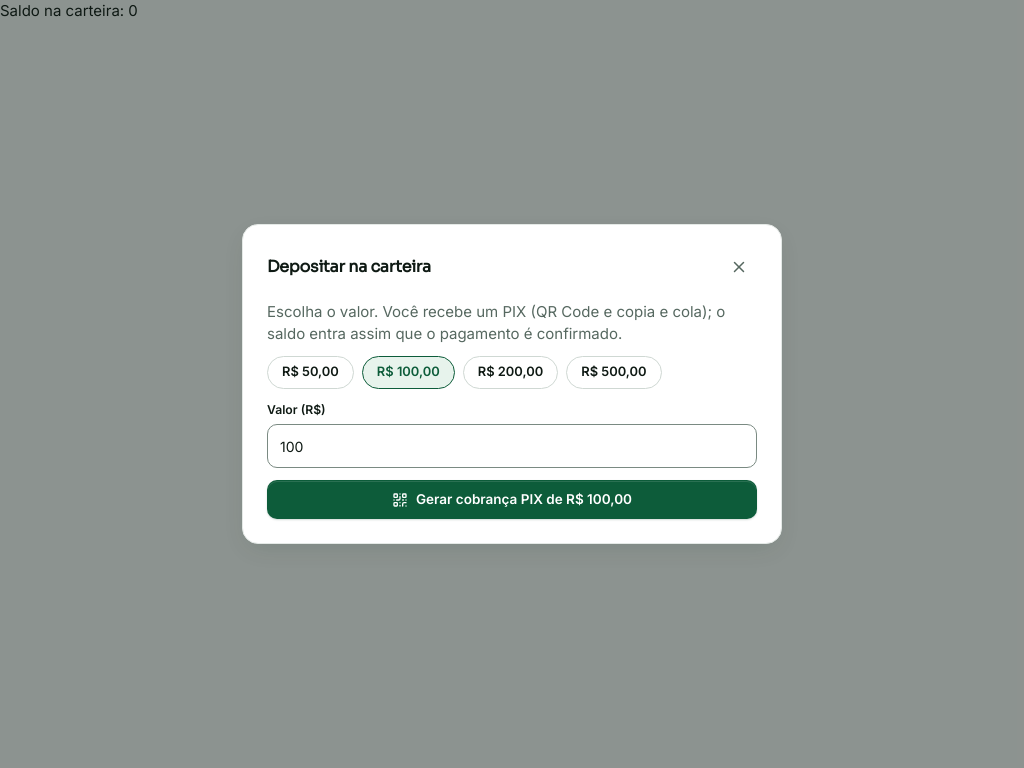
DepositModal: escolher o valor › abaixo do mínimo de R$ 10 (ou sem valor) não dá para gerar
Clear the number field labelled "Valor (R$)". click: (512, 446)
box: [267,424,757,468]
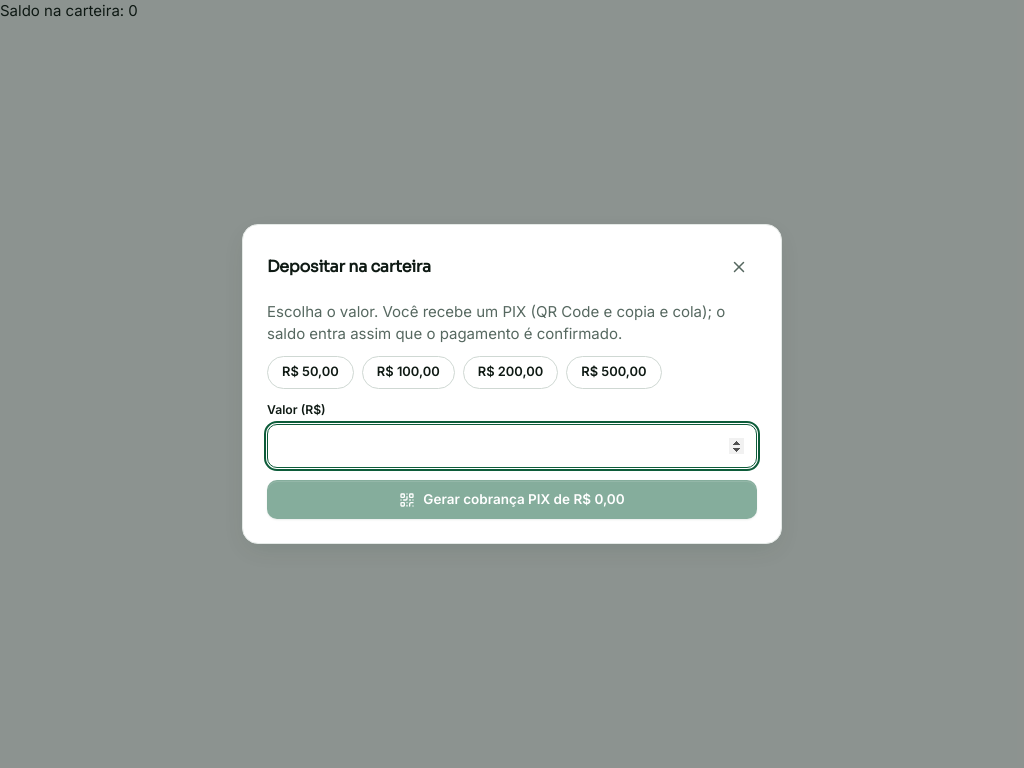
expect the button "Gerar cobrança PIX de R$ 0,00" is shown: met, box [267,480,757,519]
expect the button "Gerar cobrança PIX de R$ 0,00" is disabled: met, box [267,480,757,519]
Type "9.99" into the number field labelled "Valor (R$)". click: (512, 446)
box: [267,424,757,468]
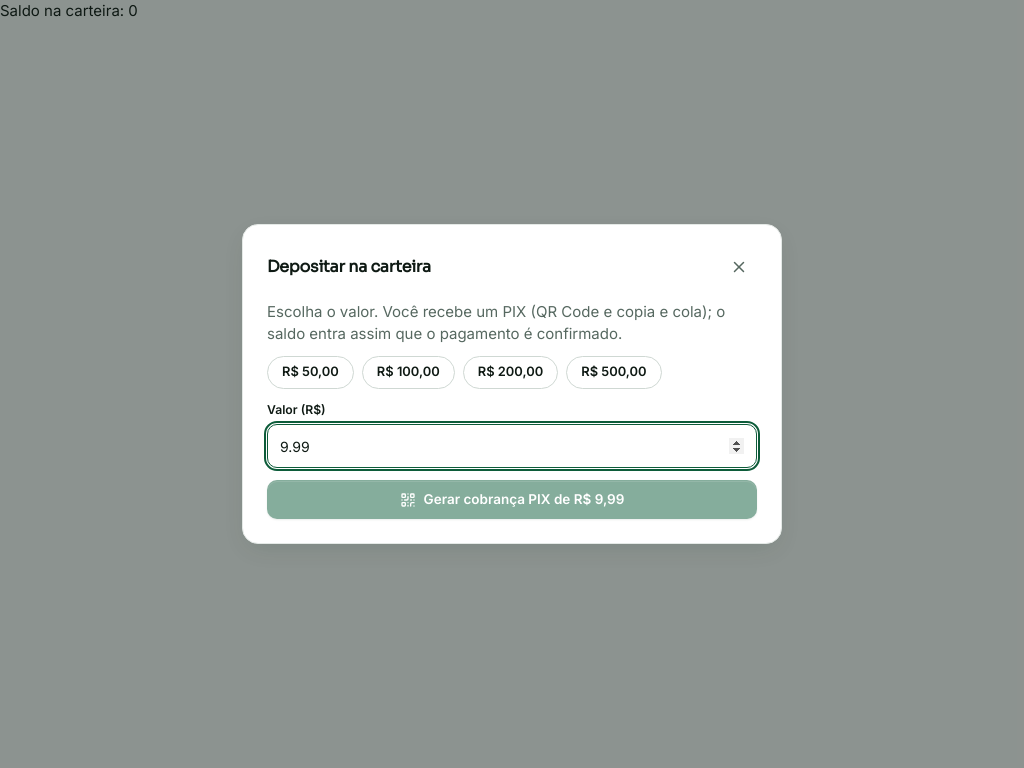
expect the button "Gerar cobrança PIX de R$ 9,99" is disabled: met
Click the button "Gerar cobrança PIX de R$ 9,99". click: (512, 500)
box: [267,480,757,519]
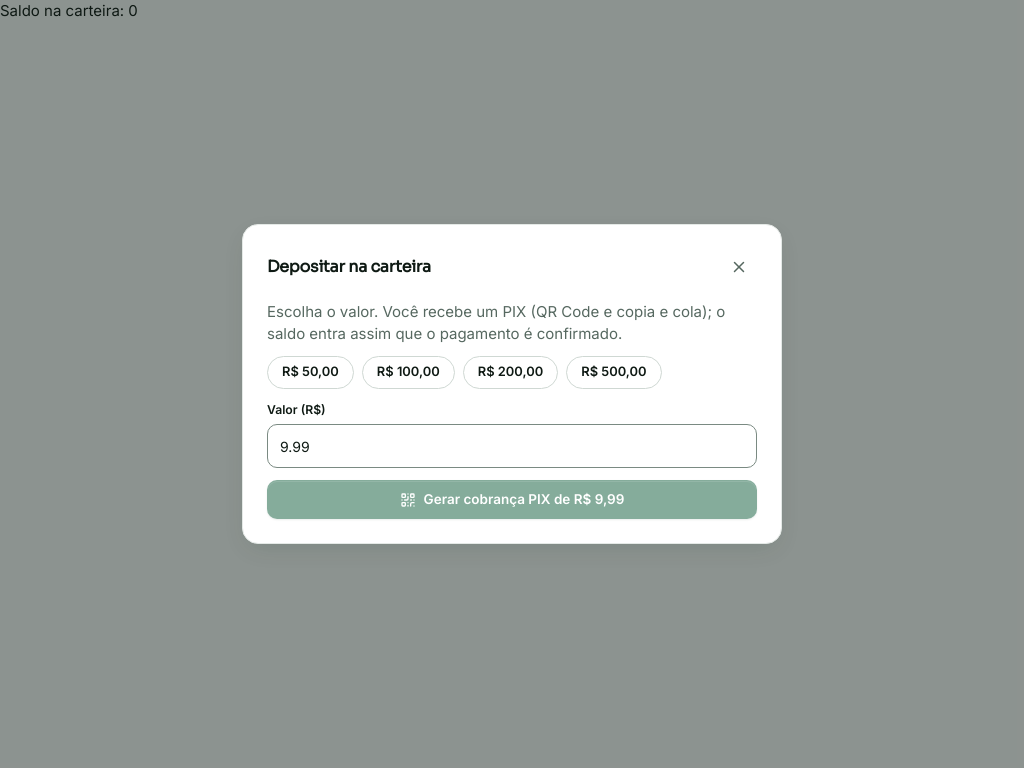
Replace the text in the number field labelled "Valor (R$)" with "10". click: (512, 446)
box: [267,424,757,468]
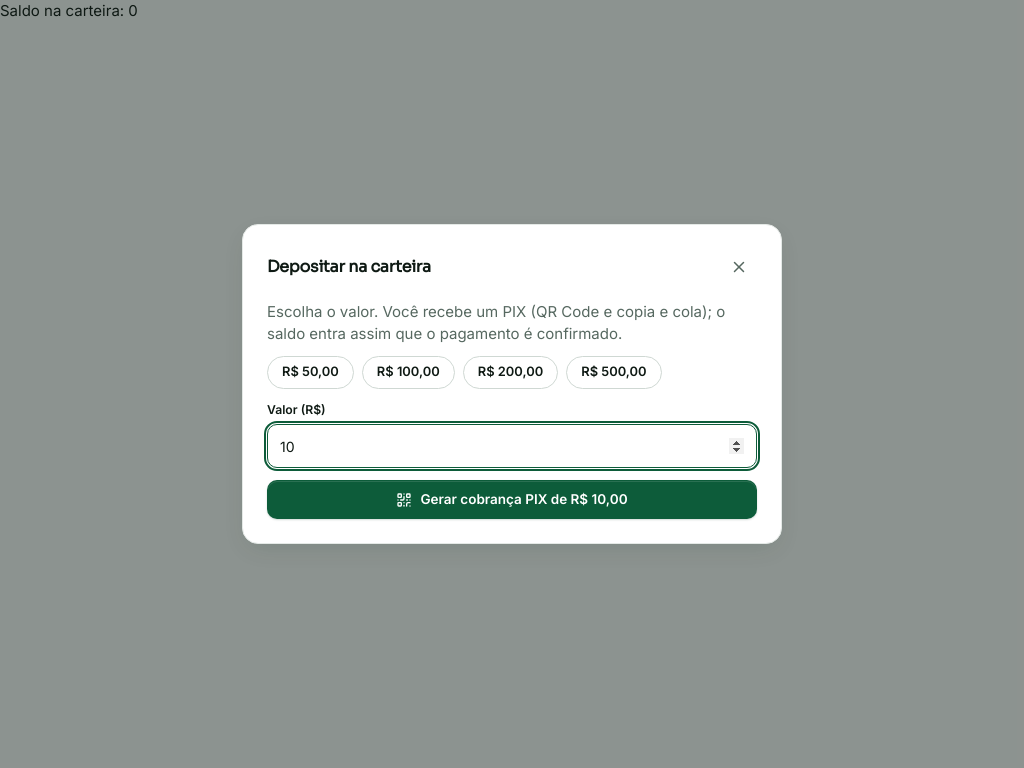
expect the button "Gerar cobrança PIX de R$ 10,00" is enabled: met, box [267,480,757,519]
